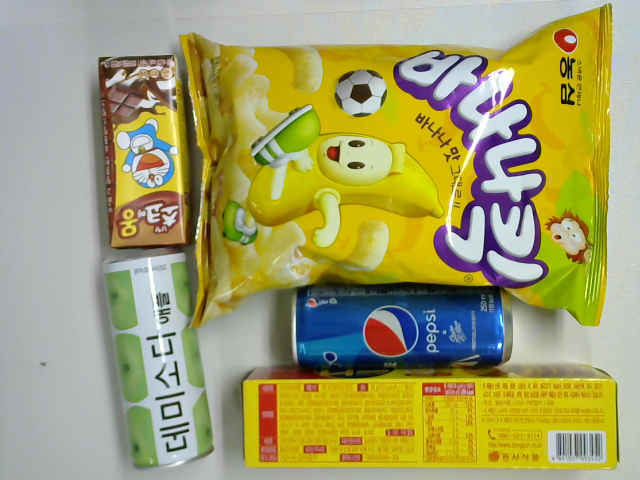Banana_Kick: (177, 3, 614, 330)
Choco_E_Mong: (97, 53, 199, 252)
Demisoda_Apple_Can_250ml: (103, 246, 217, 472)
Pepsi_Cola_Can_250ml: (290, 286, 516, 373)
Ritz_Remon_96g: (240, 362, 620, 472)
